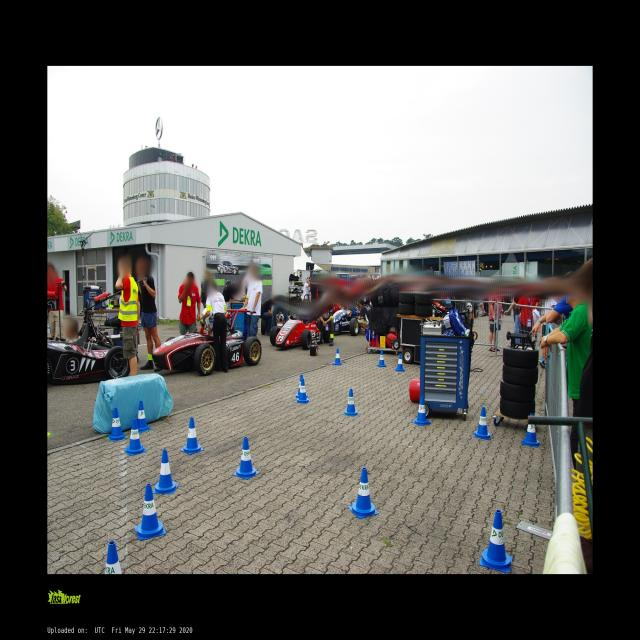blue_cone: (480, 510, 512, 572), (135, 484, 166, 540), (348, 467, 379, 519), (233, 436, 260, 479), (154, 450, 178, 494), (123, 418, 147, 456), (180, 417, 203, 455), (100, 541, 124, 574), (106, 408, 128, 442), (521, 413, 541, 448), (132, 400, 152, 433), (473, 406, 492, 439), (412, 396, 431, 426), (342, 388, 360, 416), (295, 378, 311, 404), (294, 374, 310, 398), (376, 350, 388, 367), (333, 348, 342, 365), (396, 354, 404, 372), (496, 510, 497, 512)
